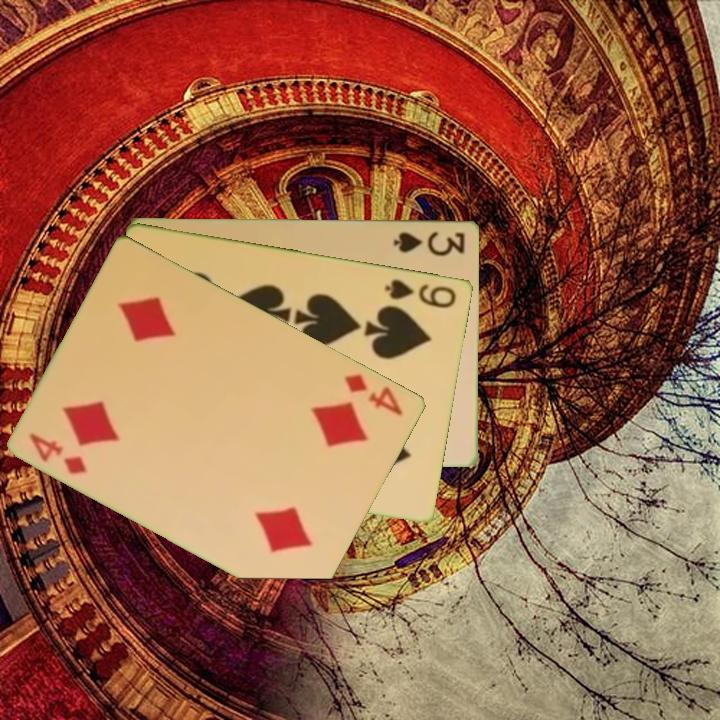3s: (390, 227, 469, 257)
4d: (341, 370, 406, 419), (26, 429, 91, 478)
9s: (382, 275, 460, 311)
